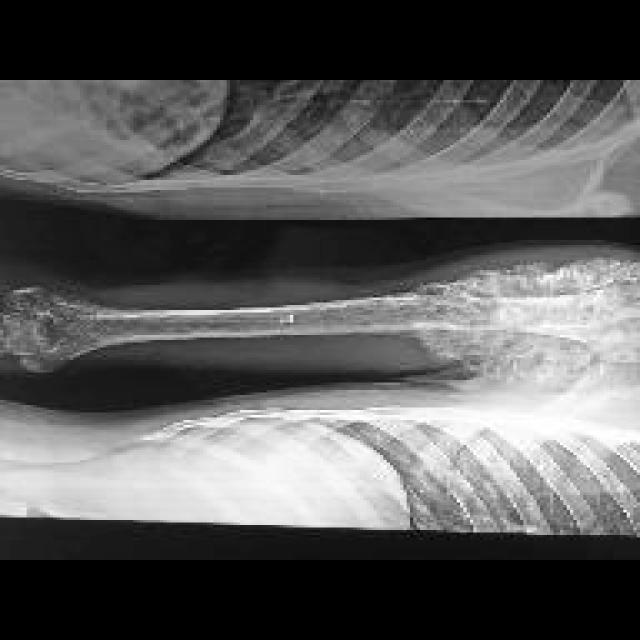bone-cancer: (420, 261, 636, 386)
